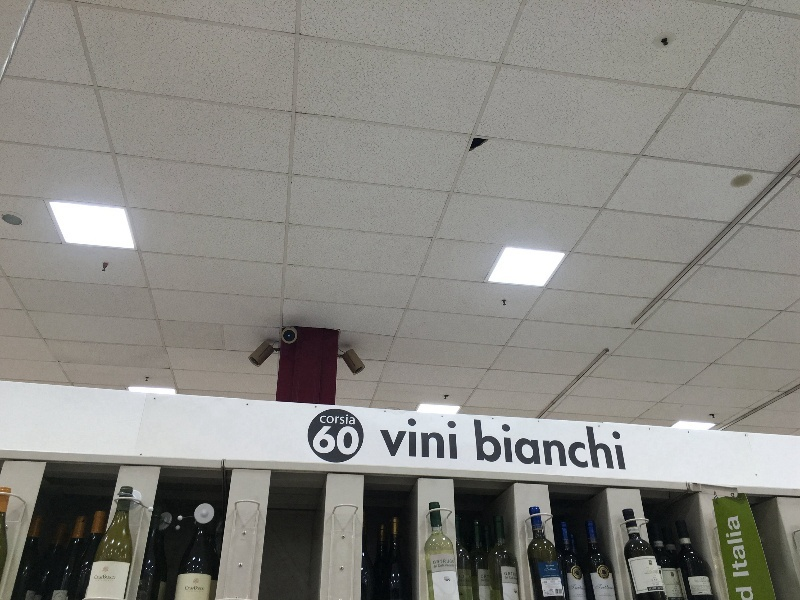text: (723, 515, 736, 579), (737, 515, 750, 579), (481, 419, 496, 471), (497, 419, 512, 471), (513, 419, 528, 471), (529, 419, 544, 471), (545, 419, 560, 471), (561, 419, 576, 471), (577, 419, 592, 471), (593, 419, 608, 471), (609, 419, 624, 471), (385, 416, 400, 460), (401, 416, 416, 460), (417, 416, 432, 460), (433, 416, 448, 460), (337, 426, 352, 456), (374, 416, 384, 460), (322, 426, 336, 456), (449, 416, 458, 460), (473, 419, 480, 471), (737, 587, 752, 600), (353, 426, 359, 456), (321, 414, 336, 425), (337, 414, 352, 425), (691, 585, 704, 595), (625, 419, 627, 471), (546, 565, 560, 572), (433, 559, 448, 565), (545, 589, 556, 597), (97, 575, 112, 580), (705, 585, 712, 595), (693, 577, 704, 583), (193, 586, 205, 591), (481, 575, 496, 579), (434, 564, 448, 568), (597, 584, 608, 589), (577, 585, 586, 591), (481, 579, 496, 582), (545, 575, 559, 578), (569, 585, 576, 591), (186, 586, 192, 591), (449, 559, 454, 565), (705, 577, 710, 583), (505, 572, 512, 576), (505, 576, 512, 580), (649, 587, 656, 591), (657, 587, 664, 591), (734, 587, 736, 600), (609, 584, 614, 589), (449, 564, 455, 568), (353, 414, 355, 425), (673, 598, 683, 600), (513, 576, 517, 580), (113, 575, 116, 580), (753, 587, 754, 600), (513, 572, 516, 576), (95, 575, 96, 580), (670, 598, 672, 600)
